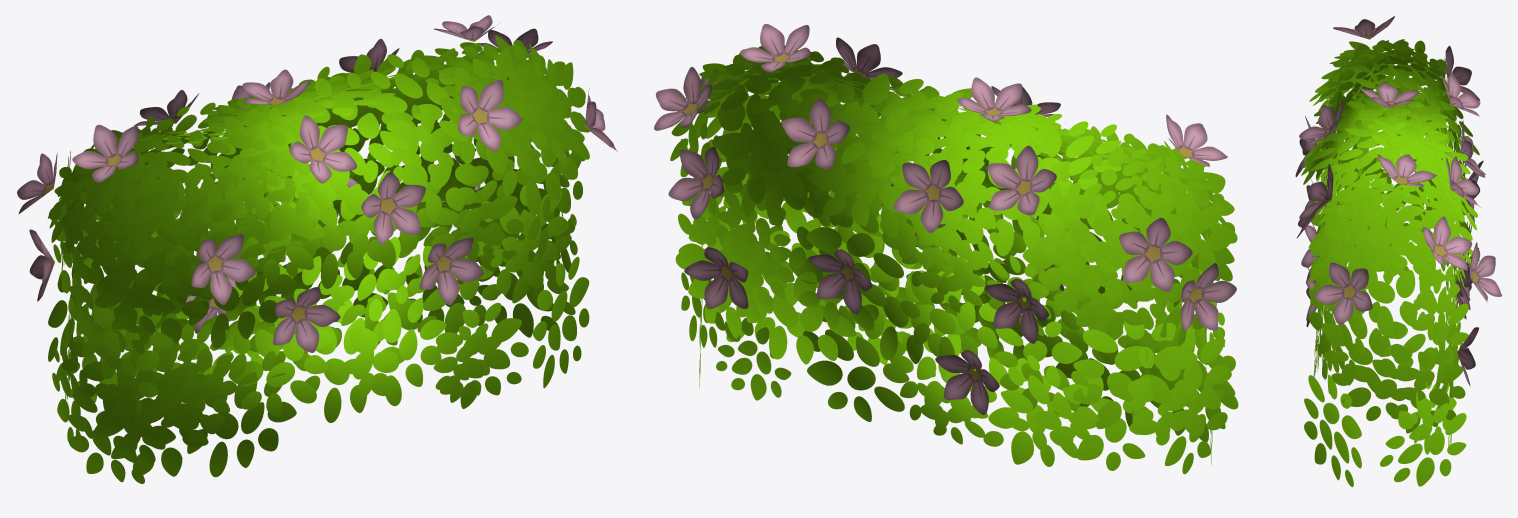
File: bush_ultimate.glb
The picture shows the model from 3 angles, left to right: view 1: azimuth 30°, elevation 25°; view 2: azimuth 150°, elevation 25°; view 3: azimuth 270°, elevation 25°; orthographic projection. The views are drawn at different scales.
Parts seen in each view (by area): view 1: Bush_Large_Flowers; view 2: Bush_Large_Flowers; view 3: Bush_Large_Flowers.
Part boxes in pixels (box(x1,y1,x2,y2)): Bush_Large_Flowers: box(17, 15, 617, 483); Bush_Large_Flowers: box(654, 24, 1238, 474); Bush_Large_Flowers: box(1295, 16, 1501, 487).
Size of the model in its own units: 1.93 by 1.26 by 0.7617.
Materials: 2 (2 with a texture image).
